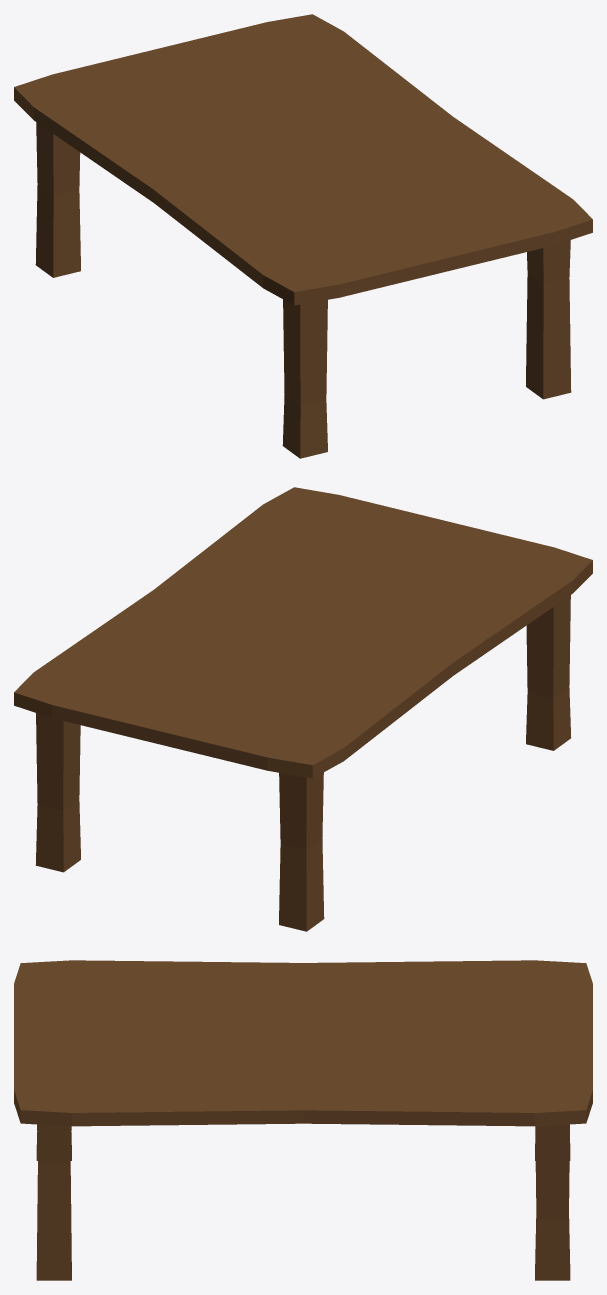
The model's file is Table.fbx.
3 renders of one model, top to bottom at view 1: azimuth 30°, elevation 25°; view 2: azimuth 150°, elevation 25°; view 3: azimuth 270°, elevation 25°, orthographic.
Parts seen in each view (by area): view 1: Table; view 2: Table; view 3: Table.
Boxes of the visible parts, x1,y1,x2,y2 form: Table: (14,14,592,458); Table: (14,487,592,931); Table: (14,960,592,1280).
Bounding box in the file's own units: 1.36 × 0.7344 × 2.17.
